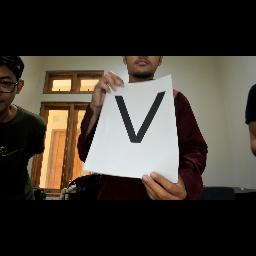v: (112, 90, 174, 150)
